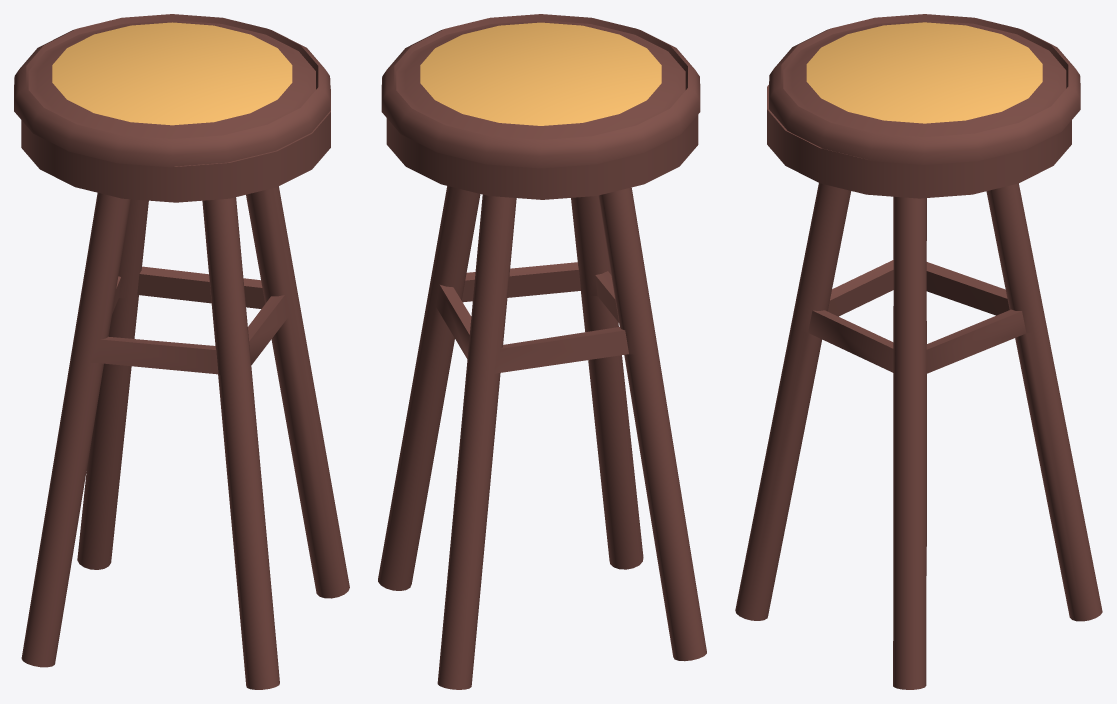
The model's file is KM_tabouret.FBX.
The picture shows the model from 3 angles, left to right: view 1: azimuth 30°, elevation 25°; view 2: azimuth 150°, elevation 25°; view 3: azimuth 270°, elevation 25°; orthographic projection. The views are drawn at different scales.
Parts seen in each view (by area): view 1: Object, Haut_tabouret, Bas_tabouret; view 2: Object, Haut_tabouret, Bas_tabouret; view 3: Object, Haut_tabouret, Bas_tabouret.
Boxes of the visible parts, box(x1,y1,x2,y2) form: Object: box(21, 186, 349, 689); Haut_tabouret: box(14, 14, 330, 167); Bas_tabouret: box(21, 89, 330, 376); Object: box(378, 186, 706, 689); Haut_tabouret: box(381, 14, 700, 168); Bas_tabouret: box(386, 115, 698, 374); Object: box(735, 196, 1102, 689); Haut_tabouret: box(769, 14, 1080, 164); Bas_tabouret: box(767, 85, 1071, 333).
Size of the model in its own units: 18.36 by 29.87 by 18.36.
